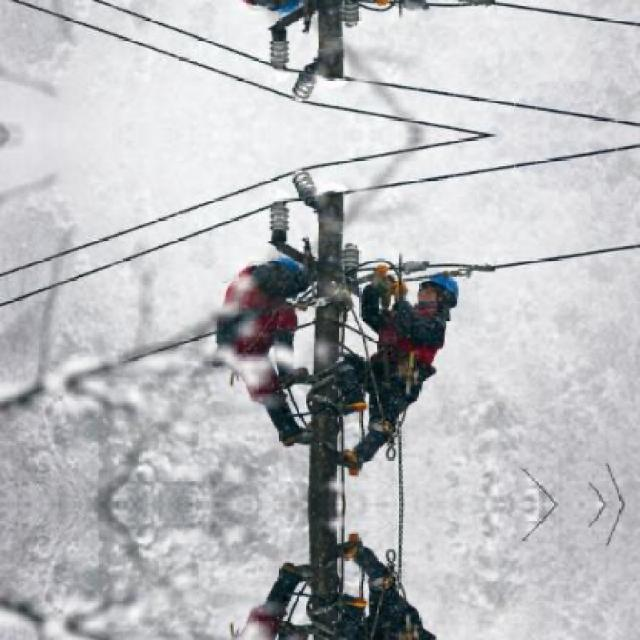con casco: (349, 266, 476, 369)
